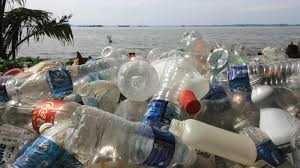plastic: (62, 101, 203, 166), (7, 52, 122, 105), (165, 117, 260, 164), (1, 96, 95, 139), (140, 55, 189, 131), (207, 57, 300, 97)
